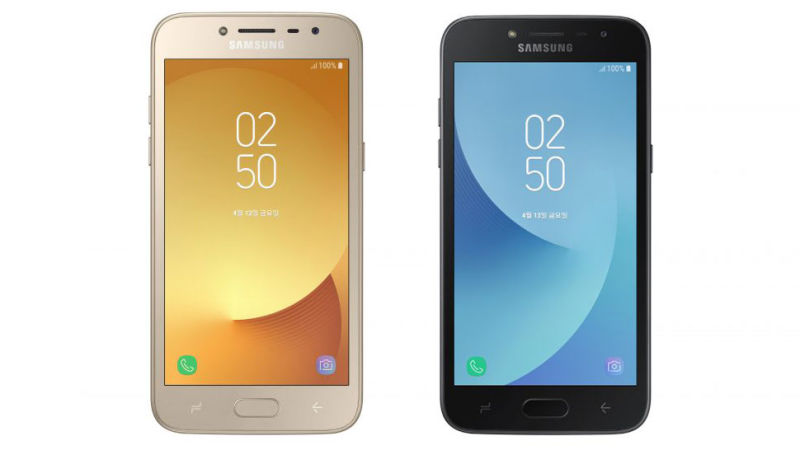phone: (431, 11, 660, 441), (146, 10, 369, 443)
